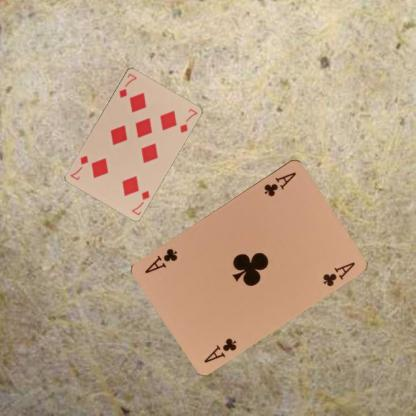7d: (116, 70, 139, 99), (129, 188, 151, 216)
Ac: (261, 168, 298, 198), (201, 335, 238, 364)
